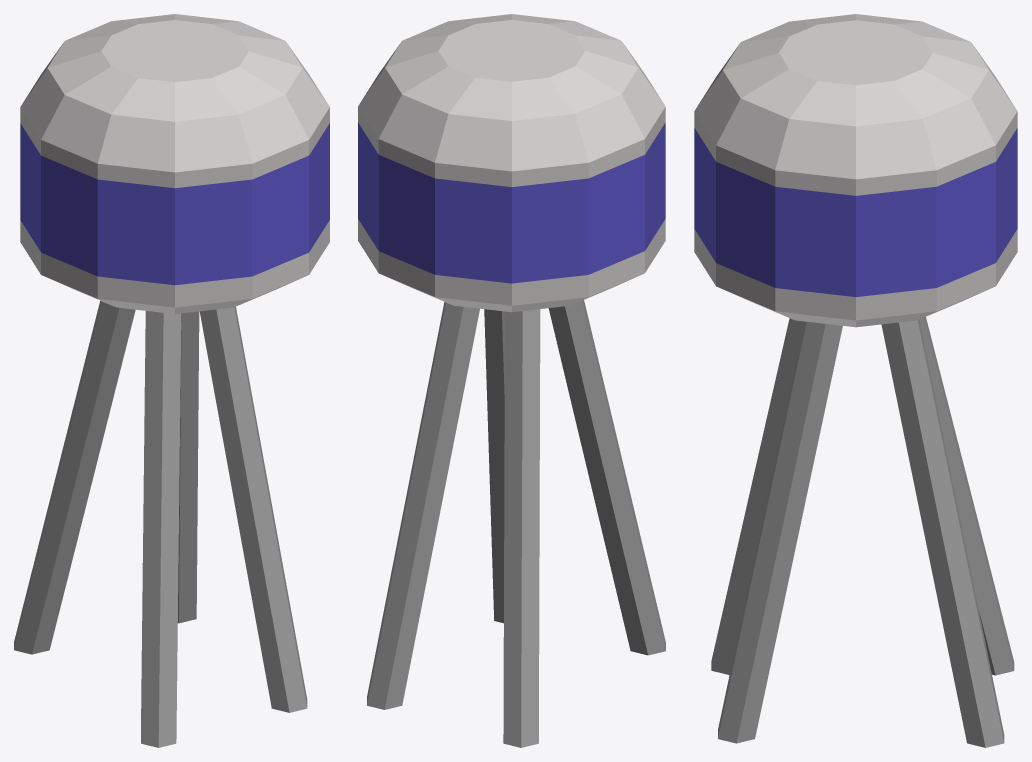
The model's file is Water Tower1.fbx.
3 views of the same model, side by side, from view 1: azimuth 30°, elevation 25°; view 2: azimuth 150°, elevation 25°; view 3: azimuth 270°, elevation 25° (orthographic). The views are drawn at different scales.
Visible parts, largest first — view 1: pCylinder3; view 2: pCylinder3; view 3: pCylinder3.
Boxes of the visible parts, box(x1,y1,x2,y2) form: pCylinder3: box(14, 14, 329, 747); pCylinder3: box(358, 14, 665, 747); pCylinder3: box(694, 14, 1017, 747).
Bounding box in the file's own units: 7.68 × 17.11 × 7.68.
